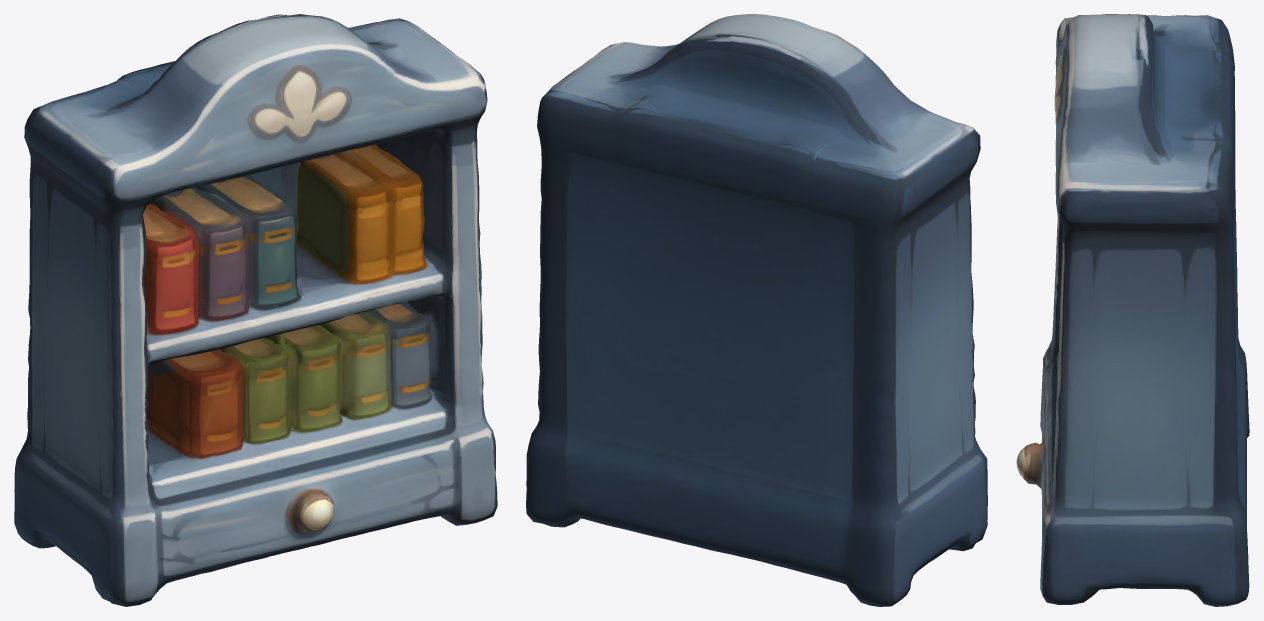
Rendered from Blue_mini_bookshelf.glb.
3 views of the same model, side by side, from view 1: azimuth 30°, elevation 25°; view 2: azimuth 150°, elevation 25°; view 3: azimuth 270°, elevation 25° (orthographic). The views are drawn at different scales.
Parts seen in each view (by area): view 1: RETOPO; view 2: RETOPO; view 3: RETOPO.
Part boxes in pixels (x1=…): RETOPO: x1=14, y1=14, x2=497, y2=606; RETOPO: x1=526, y1=14, x2=987, y2=606; RETOPO: x1=1016, y1=14, x2=1249, y2=606.
Size of the model in its own units: 0.7197 by 0.9186 by 0.3956.
1 material, 1 textured.
